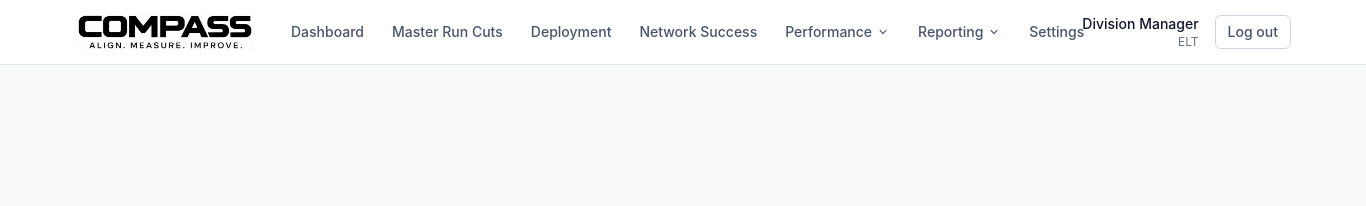
it: clicking a group reveals its items and closes after picking one
The width and height of the screenshot is (1366, 206).
Expected: the link "Safety" is not shown
Click the button "Performance": (838, 32) x1=773 y1=14 x2=902 y2=50
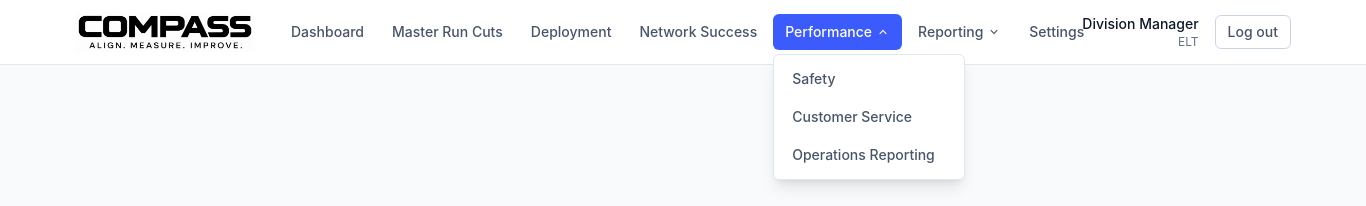
Expected: the link "Customer Service" is shown, x1=792 y1=108 x2=912 y2=125
Expected: the link "Operations Reporting" is shown, x1=792 y1=146 x2=935 y2=163
Click the link "Safety": (814, 78) x1=792 y1=70 x2=836 y2=87
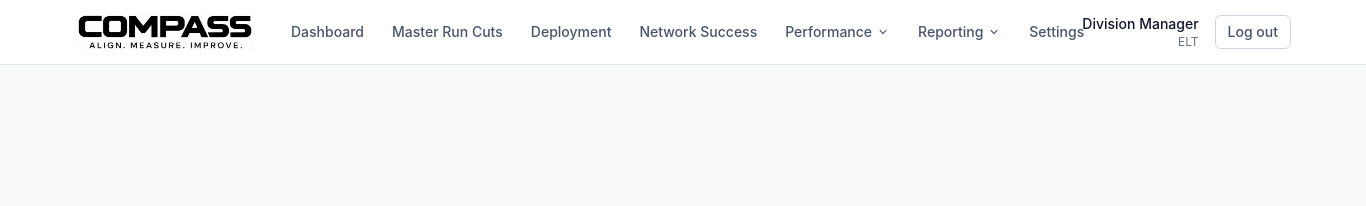
Expected: the link "Safety" is gone
